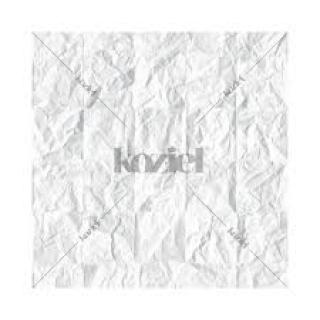PAPER: (30, 30, 287, 287)
